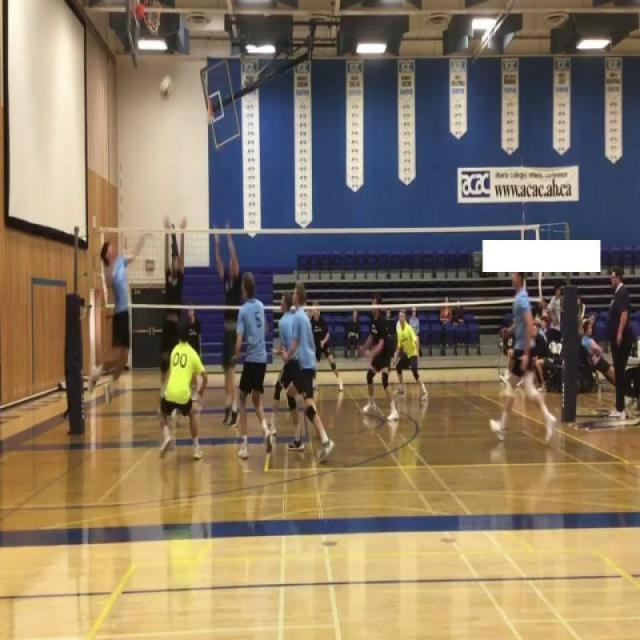volleyball: (158, 74, 174, 102)
